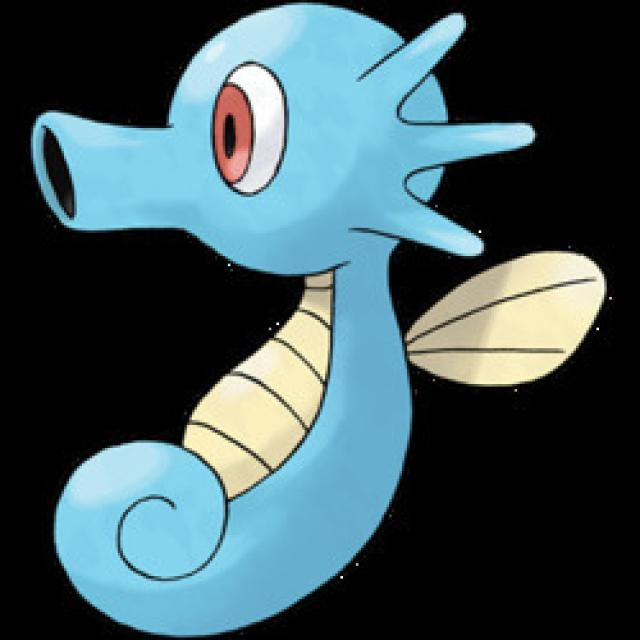Horsea: (12, 14, 604, 631)
